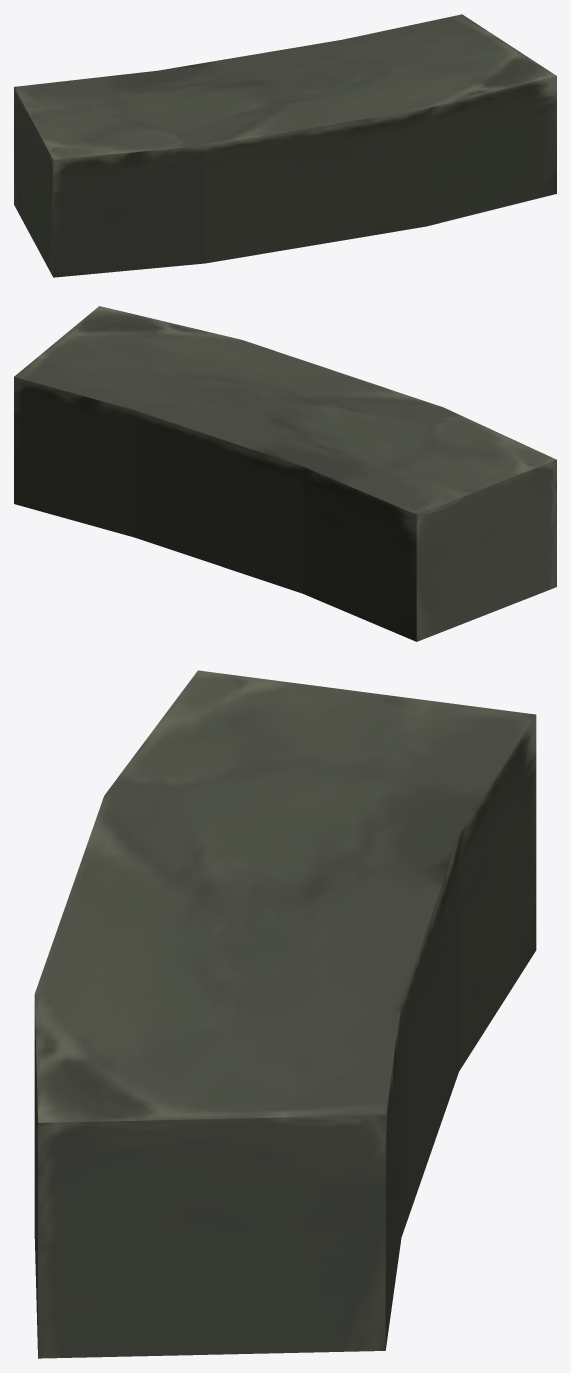
File: yw_newshanlin_pingtaizhuan_001.FBX
3 renders of one model, top to bottom at view 1: azimuth 30°, elevation 25°; view 2: azimuth 150°, elevation 25°; view 3: azimuth 270°, elevation 25°, orthographic. The views are drawn at different scales.
Visible parts, largest first — view 1: yw_newshanlin_pingtaizhuan_001; view 2: yw_newshanlin_pingtaizhuan_001; view 3: yw_newshanlin_pingtaizhuan_001.
Part boxes in pixels (<box>): yw_newshanlin_pingtaizhuan_001: <box>14,14,556,277</box>; yw_newshanlin_pingtaizhuan_001: <box>14,306,556,641</box>; yw_newshanlin_pingtaizhuan_001: <box>34,670,536,1358</box>.
Size of the model in its own units: 25.57 by 11.98 by 6.21.
